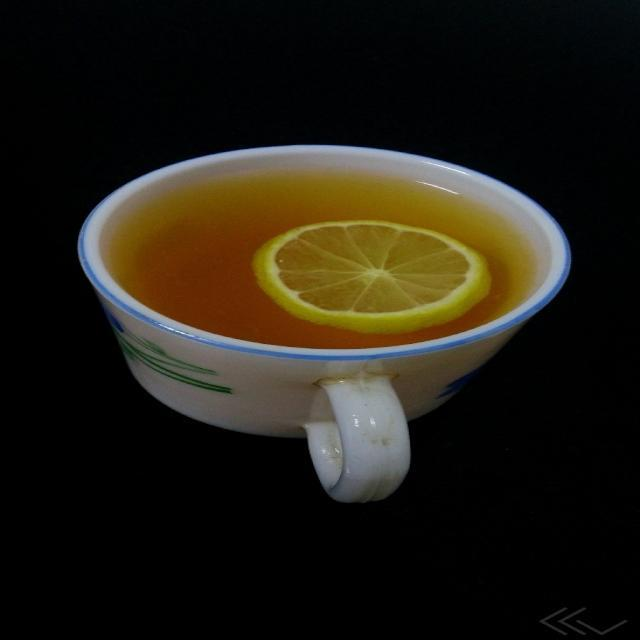Lemon: (258, 214, 484, 329)
